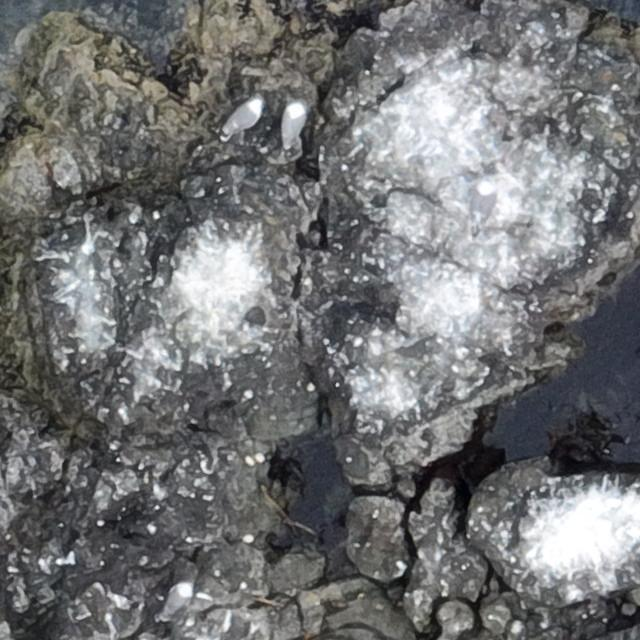umineko: (467, 179, 497, 239), (223, 100, 262, 132), (283, 102, 306, 143)
